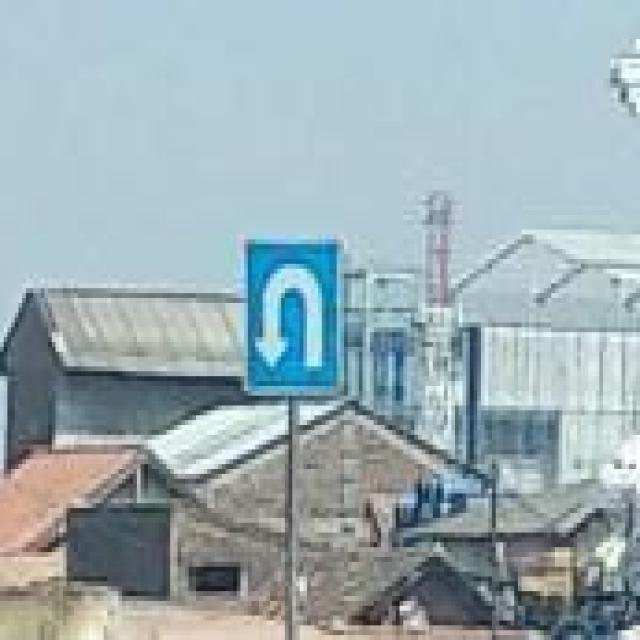U-turn: (245, 240, 342, 392)
